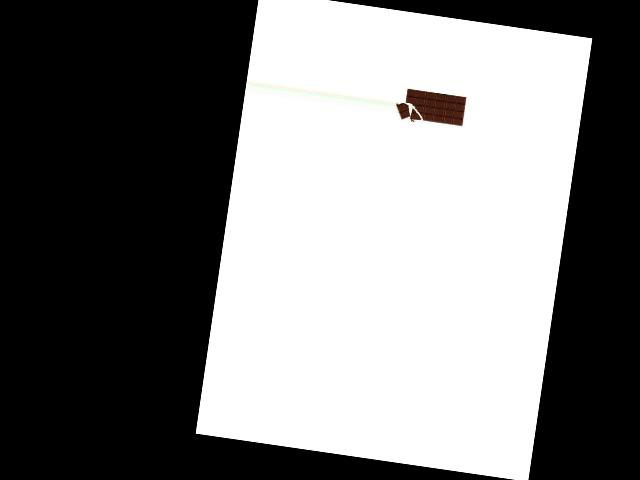chocolate: (392, 82, 468, 135)
